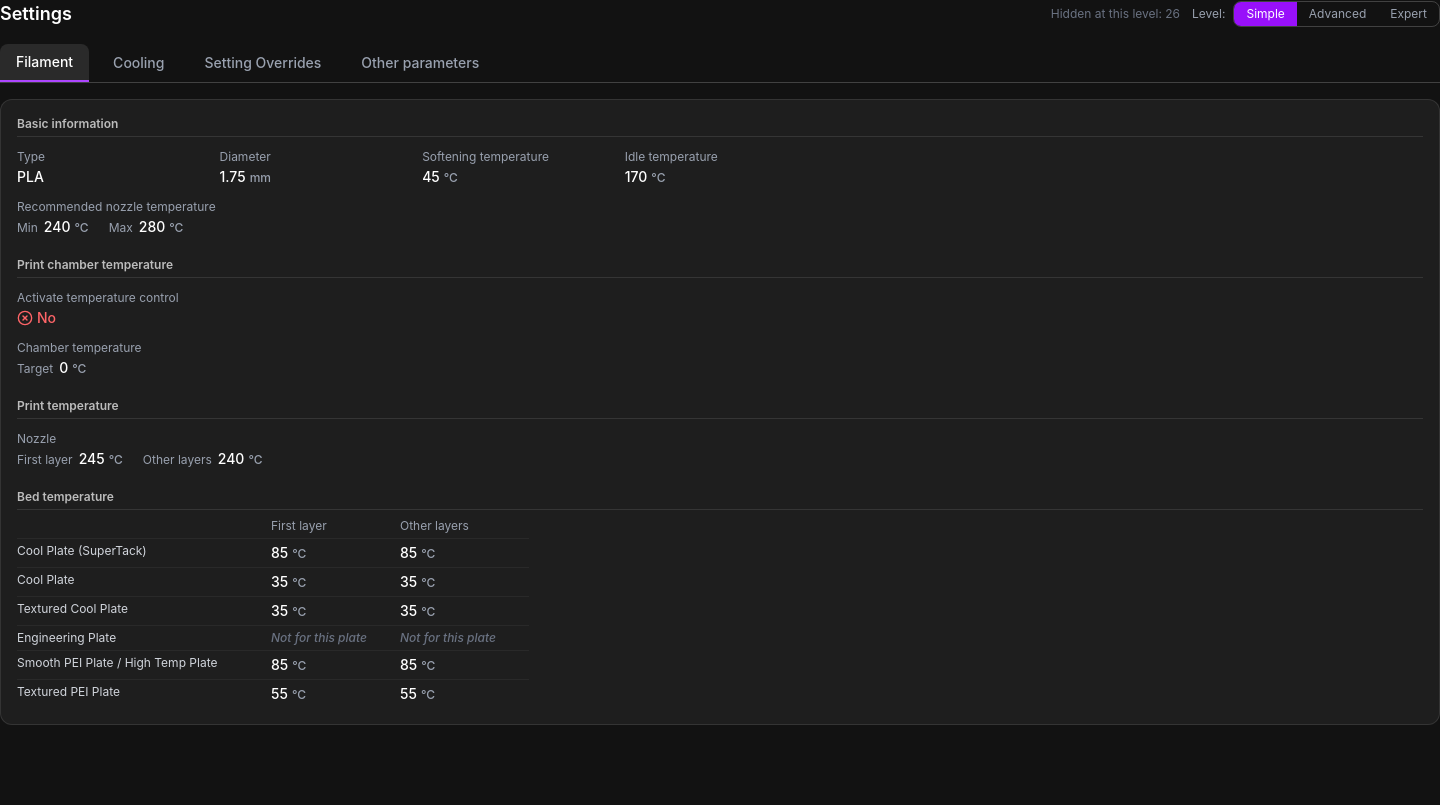
Orca schema preset view › switches level from the selector and reports the hidden count
The width and height of the screenshot is (1440, 805).
Check: the text "Hidden at this level: 26" is shown, box [1051,6,1180,22]
Check: the text "Required nozzle HRC" is not shown
Click the button "Expert" at (1409, 14), box [1378,2,1439,26]
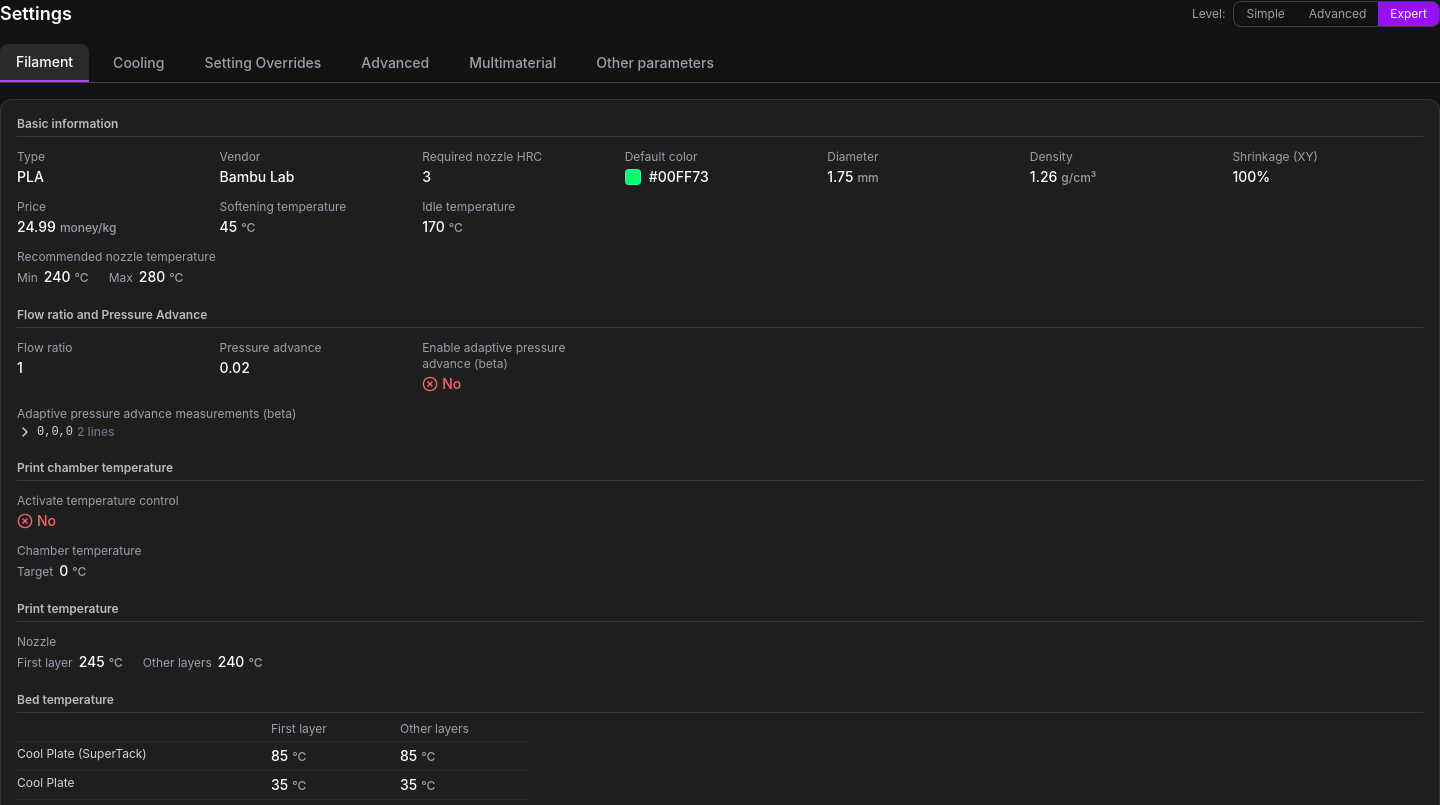
Check: the text "Hidden at this level" is gone
Click the button "Other parameters" at (655, 63), box [580,44,730,82]
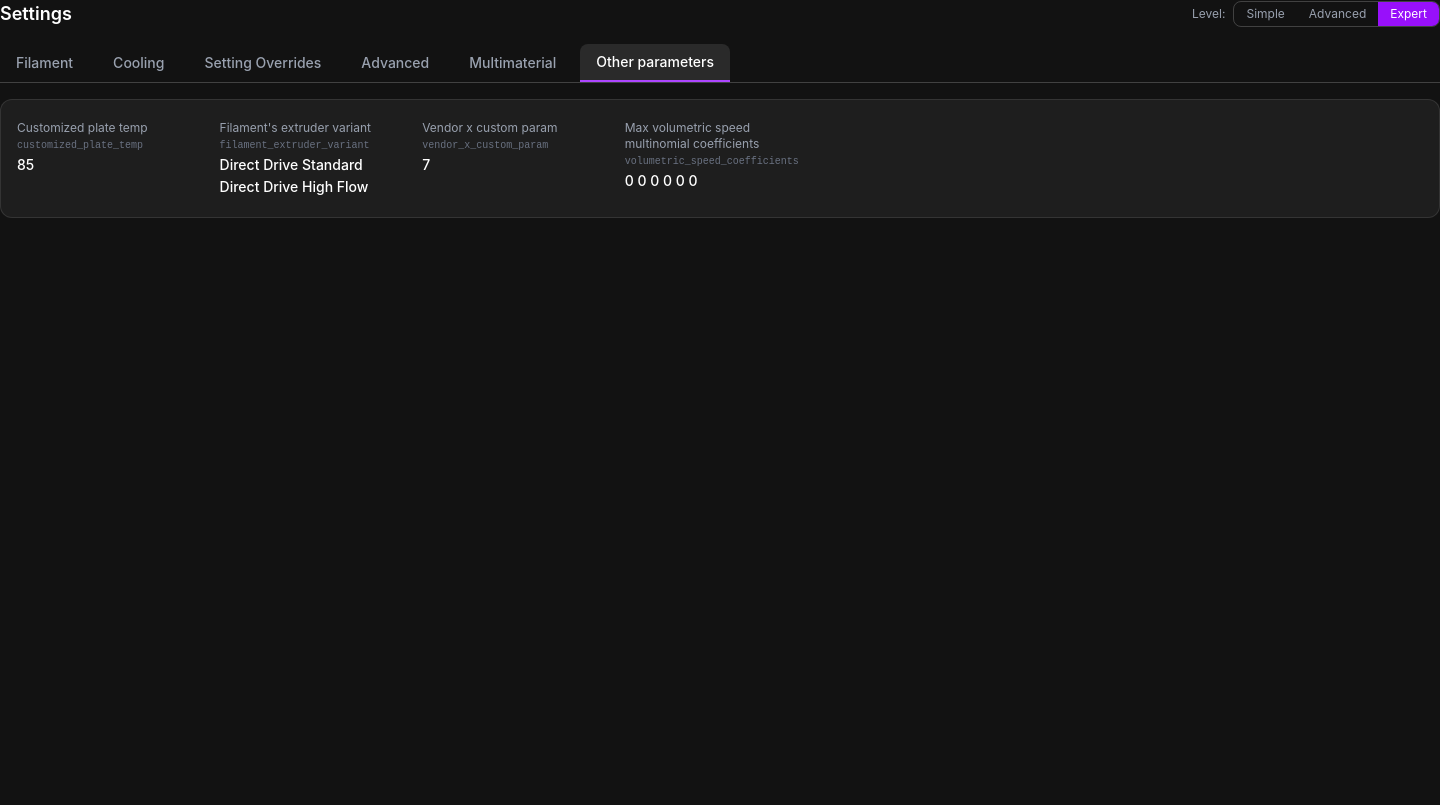
Check: the text "Vendor x custom param" is shown, box [422,120,557,135]
